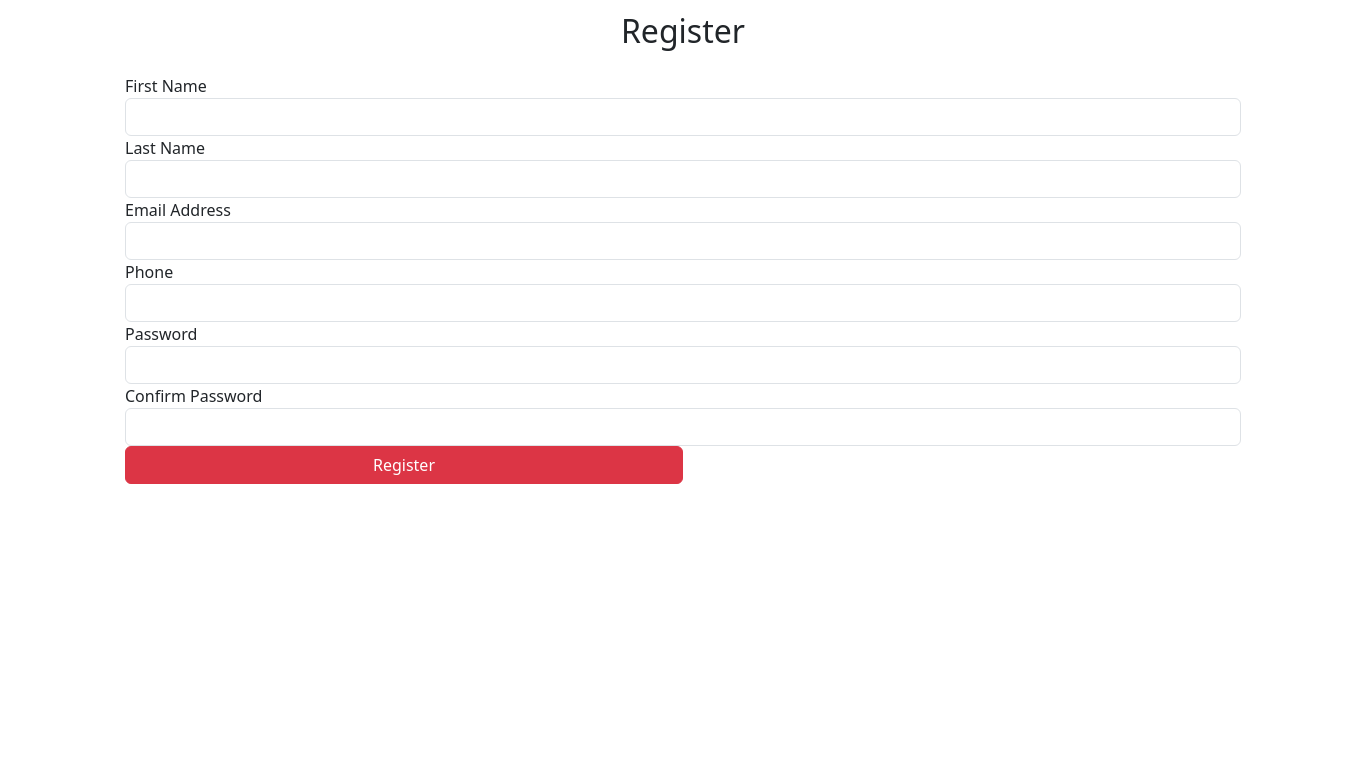
Register Component Test › Should display an error toast on failed registration due to empty fields
simulating user interaction
What coordinates should you click on to do the following:
click the button "Register"
I would click on:
 (404, 465)
Its box is x1=125 y1=446 x2=683 y2=484.
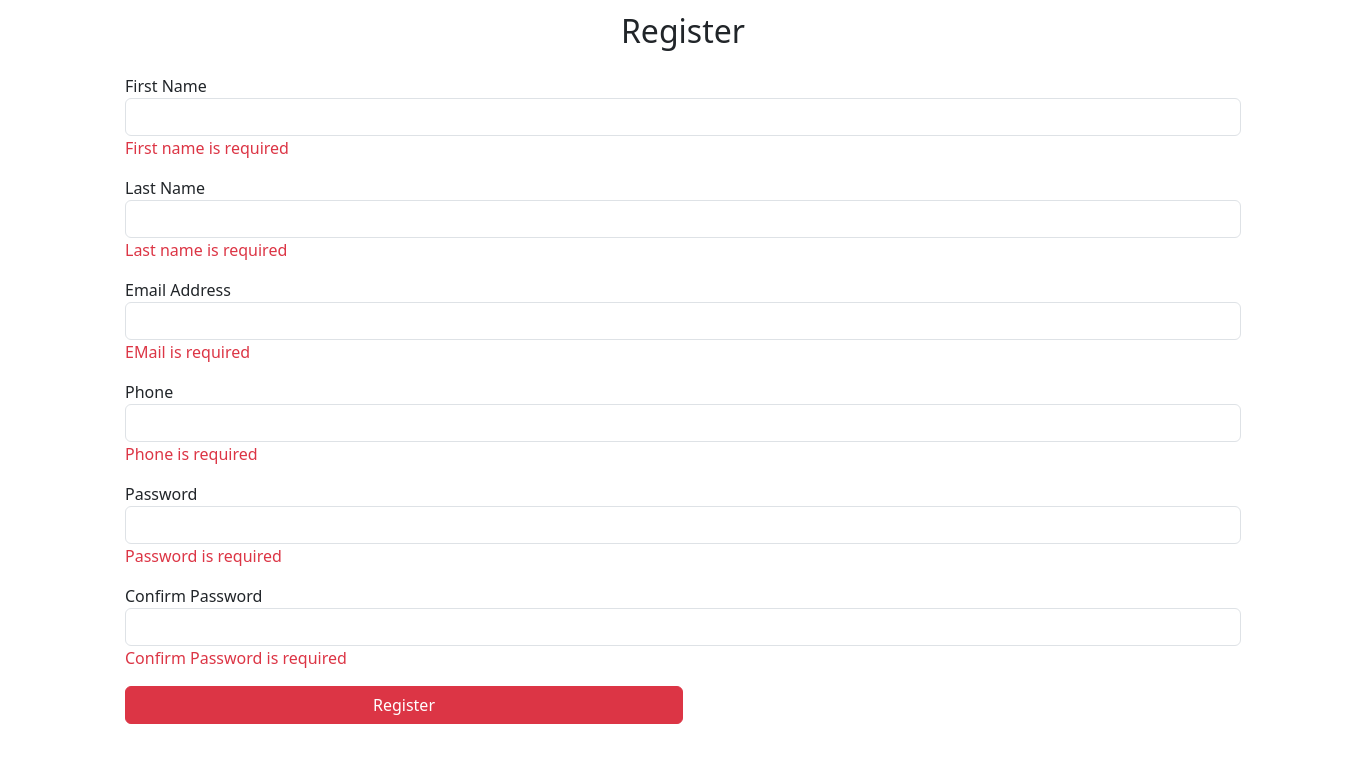
Result: the text "First name is required" is shown at x1=125 y1=137 x2=289 y2=159
Result: the text "Last name is required" is shown at x1=125 y1=239 x2=287 y2=261
Result: the text "EMail is required" is shown at x1=125 y1=341 x2=250 y2=363
